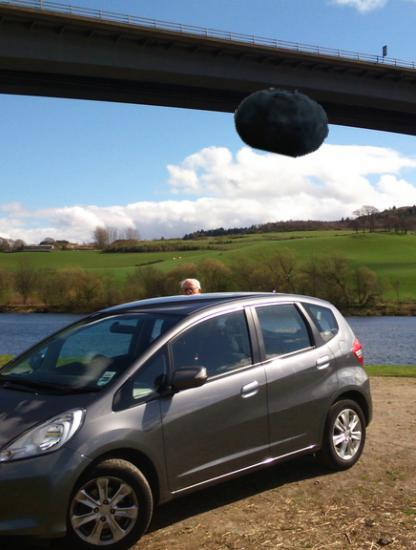Blueberry: (234, 73, 330, 169)
